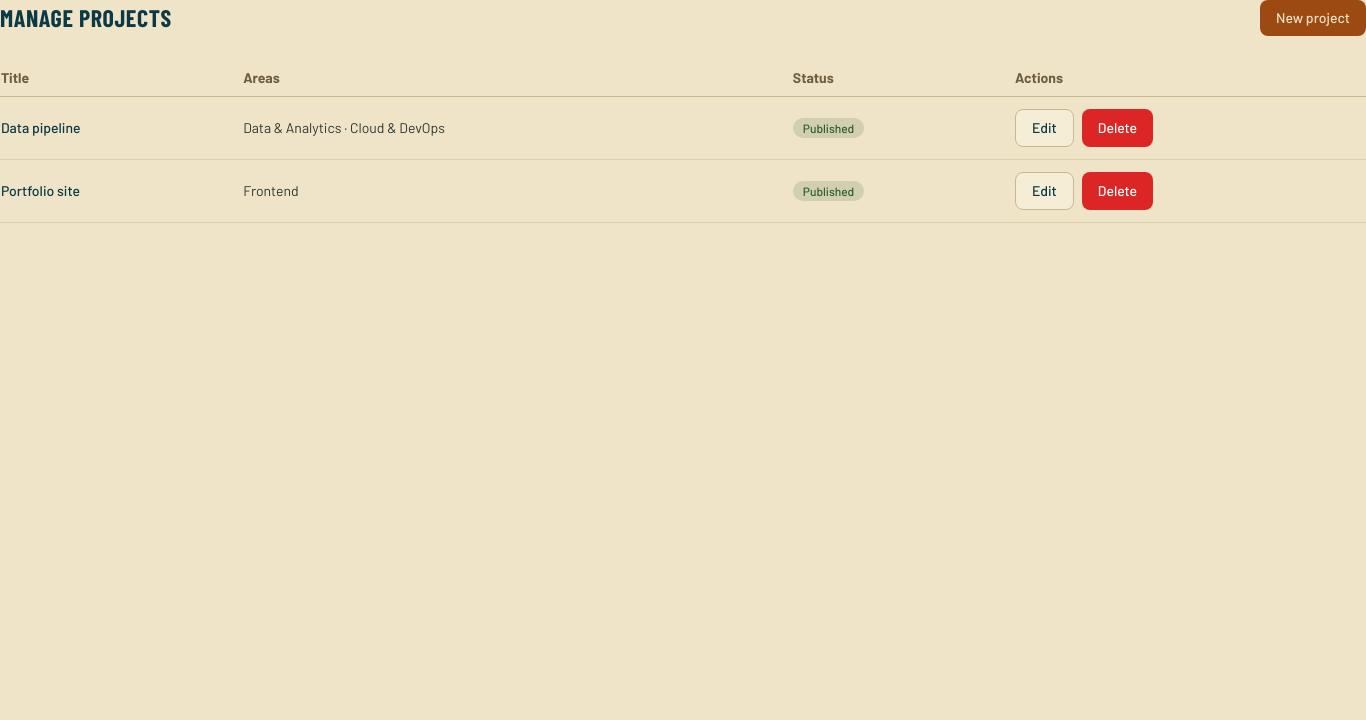
Test: AdminProjects › opens the edit form prefilled with the project slug
Expected: the text "Data pipeline" is shown, [0,96,242,160]
Click the button with aria-label "Edit Data pipeline". click: (1044, 128)
box: [1015,109,1074,147]
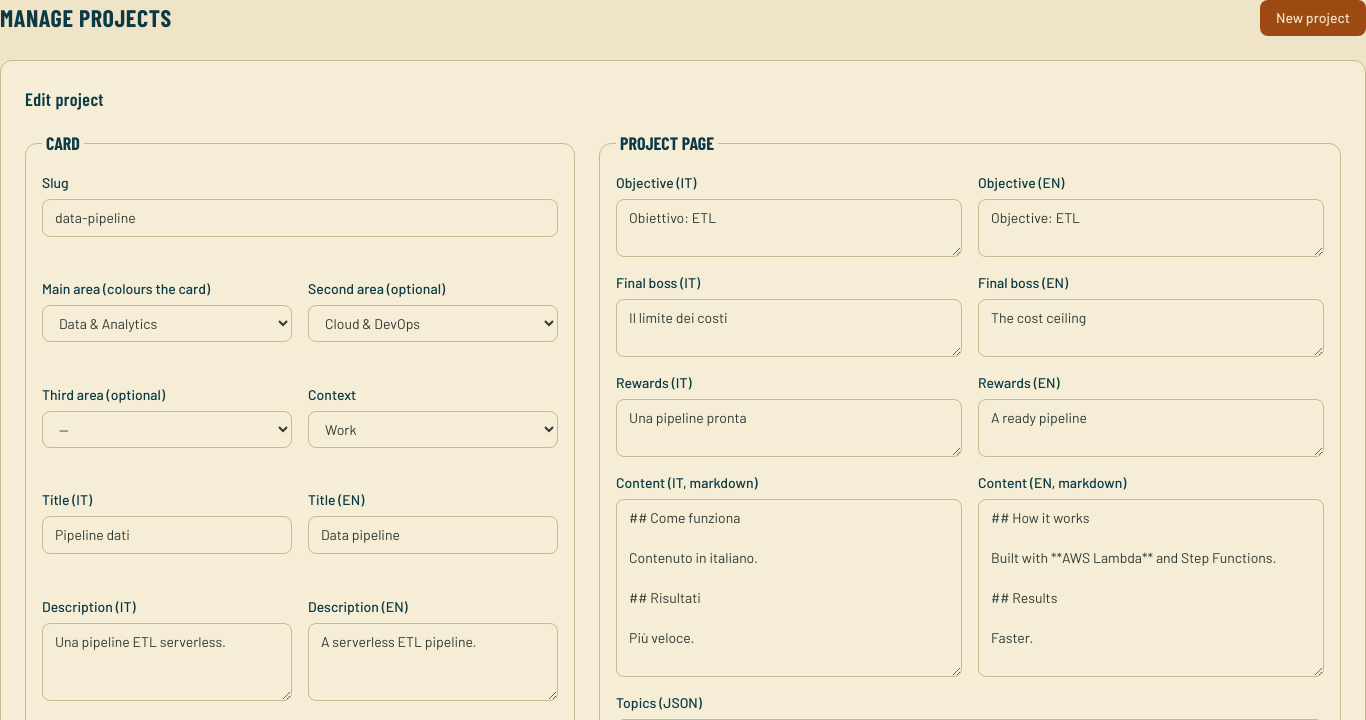
Expected: the heading "Edit project" is shown, [25,88,104,110]
Expected: the field labelled "Slug" holds "data-pipeline", [42,199,558,237]
